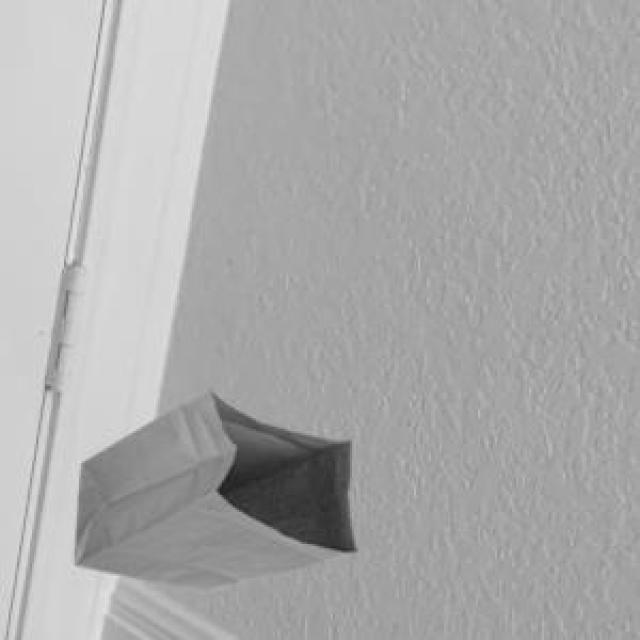paper: (70, 386, 352, 589)
